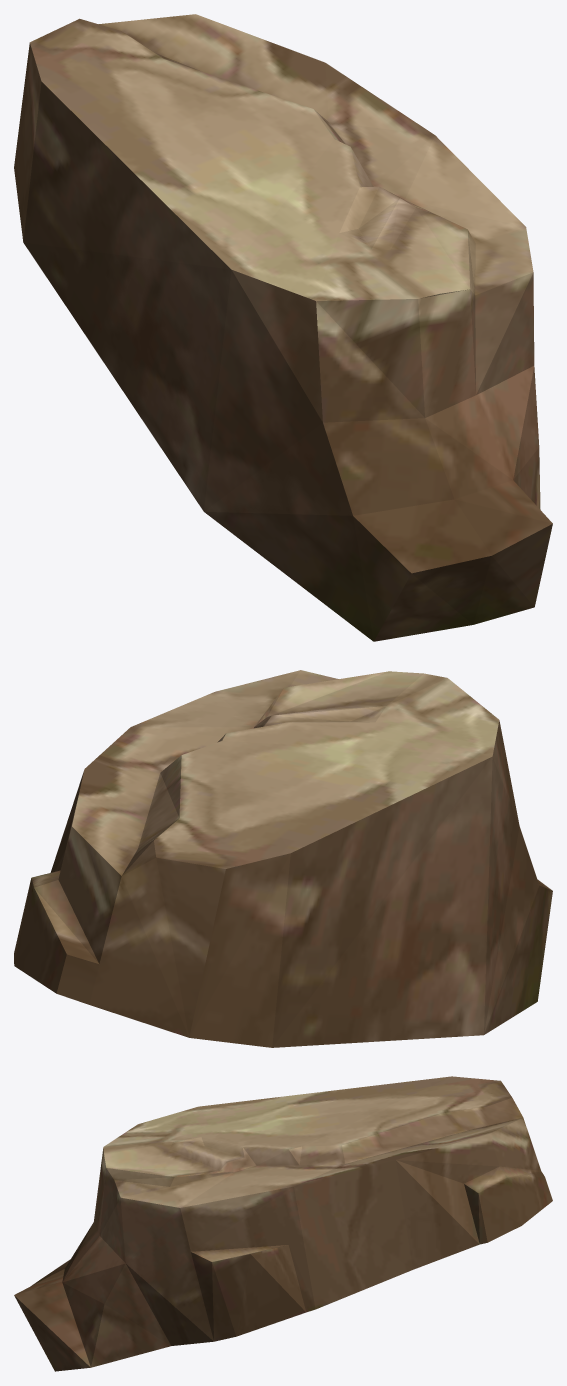
File: caodi_shitou_03.fbx
3 renders of one model, top to bottom at view 1: azimuth 30°, elevation 25°; view 2: azimuth 150°, elevation 25°; view 3: azimuth 270°, elevation 25°, orthographic. The views are drawn at different scales.
Visible parts, largest first — view 1: caodi_shitou_03; view 2: caodi_shitou_03; view 3: caodi_shitou_03.
Boxes of the visible parts, left/top/right/bottom form: caodi_shitou_03: left=14, top=14, right=552, bottom=641; caodi_shitou_03: left=14, top=670, right=552, bottom=1047; caodi_shitou_03: left=14, top=1076, right=552, bottom=1371.
Bounding box in the file's own units: 8.15 × 9.03 × 17.96.
